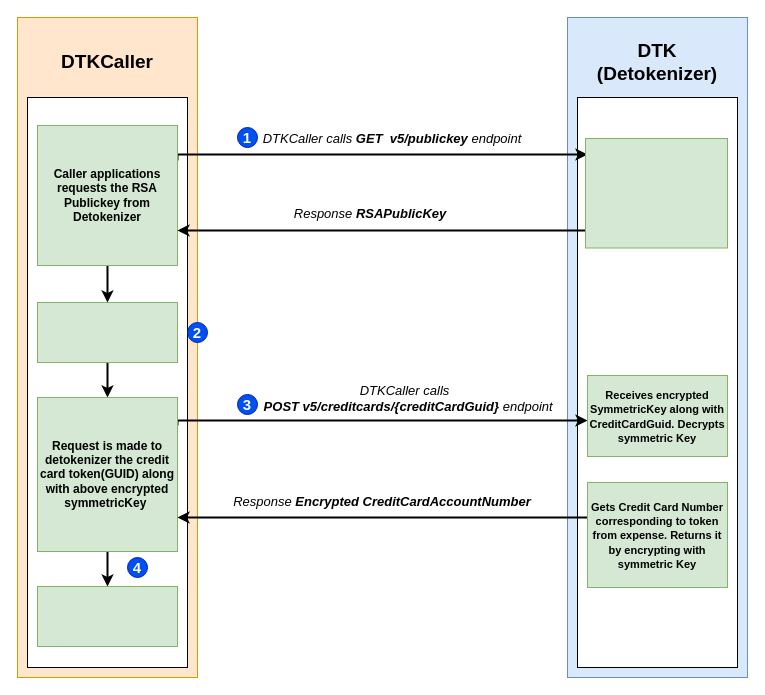
Image size: 765x695. Some labels were removed from this diagram. The centre of each missing label's shape, as x and y in pixels:
"Create Symmetric Key and wrap it using above RSA PublicKey" belongs at (107,332).
"Receives request and returns latest application's RSA PublicKey with version" belongs at (656,193).
"Use symmetricKey for decrypting the received card number from DTK" belongs at (107,616).
